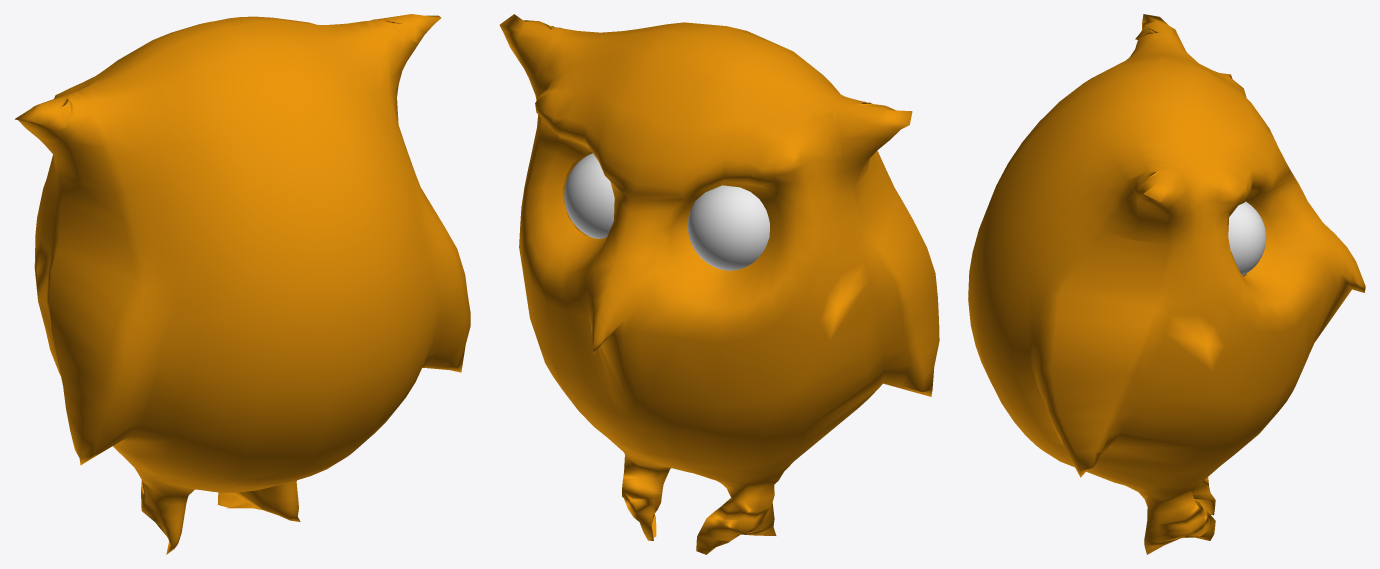
File: pöllö 1.fbx
3 renders of one model, left to right at view 1: azimuth 30°, elevation 25°; view 2: azimuth 150°, elevation 25°; view 3: azimuth 270°, elevation 25°, orthographic. The views are drawn at different scales.
Parts seen in each view (by area): view 1: BSurfaceMesh; view 2: BSurfaceMesh, Sphere.002, Sphere.001; view 3: BSurfaceMesh, Sphere.001.
Boxes of the visible parts, box(x1,y1,x2,y2) form: BSurfaceMesh: box(15, 14, 470, 554); BSurfaceMesh: box(499, 14, 939, 554); Sphere.002: box(687, 185, 769, 270); Sphere.001: box(564, 153, 614, 238); BSurfaceMesh: box(968, 14, 1365, 554); Sphere.001: box(1228, 201, 1266, 275).
Bounding box in the file's own units: 62.16 × 71.16 × 56.44.
